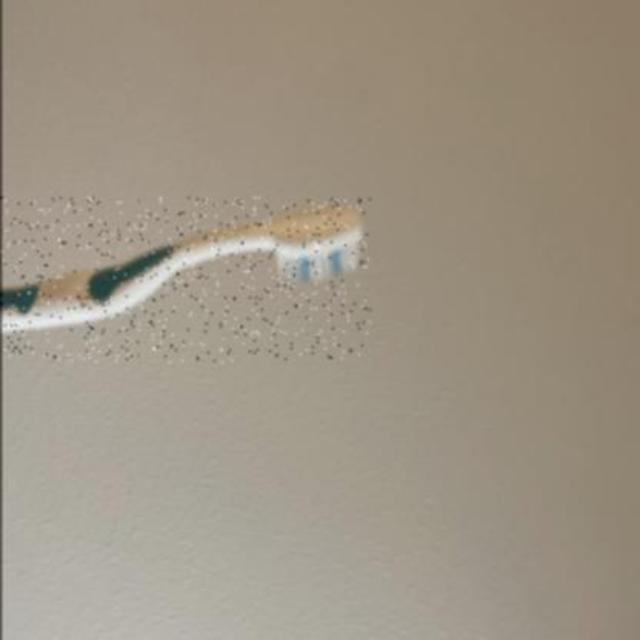toothbrush: (1, 197, 370, 363)
